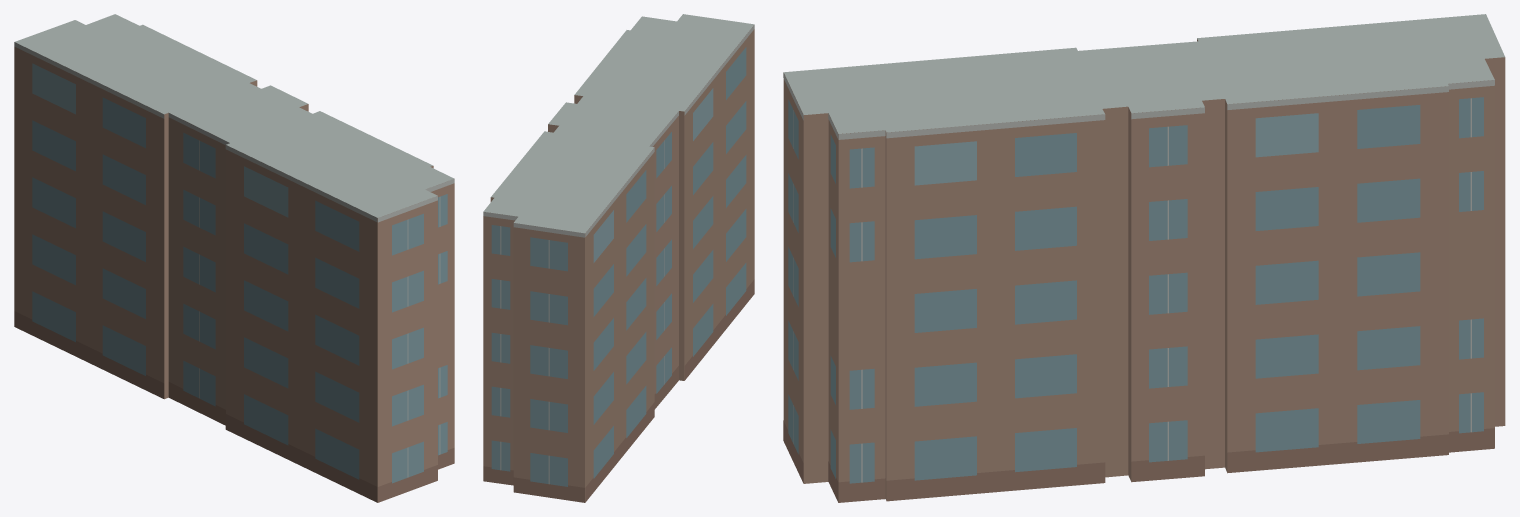
Rendered from survey-upis-32533166.glb.
3 renders of one model, left to right at view 1: azimuth 30°, elevation 25°; view 2: azimuth 150°, elevation 25°; view 3: azimuth 270°, elevation 25°, orthographic. The views are drawn at different scales.
Visible parts, largest first — view 1: survey-upis-32533166.tmp; view 2: survey-upis-32533166.tmp; view 3: survey-upis-32533166.tmp.
Part boxes in pixels (box(x1,y1,x2,y2)): survey-upis-32533166.tmp: box(14, 14, 454, 502); survey-upis-32533166.tmp: box(483, 14, 754, 502); survey-upis-32533166.tmp: box(783, 14, 1505, 502).
Bounding box in the file's own units: 10.66 × 15.25 × 27.06.
